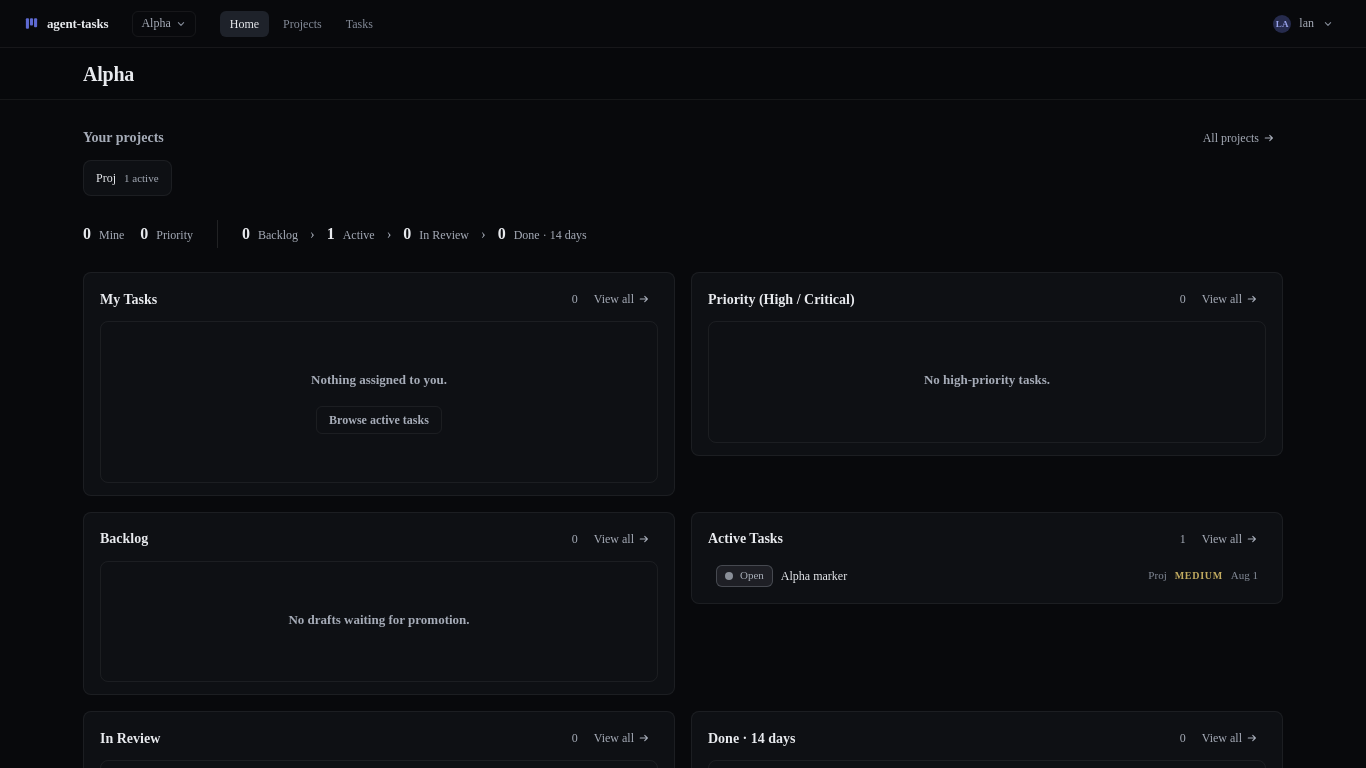
Test case: /home without ?teamId › after a later write of the remembered team (another tab), header and page agree and a pick of the other team switches both
What coordinates should you click on to do the following:
click the button with aria-label "Switch team"
I would click on:
 (164, 24)
Its box is [132, 10, 196, 36].
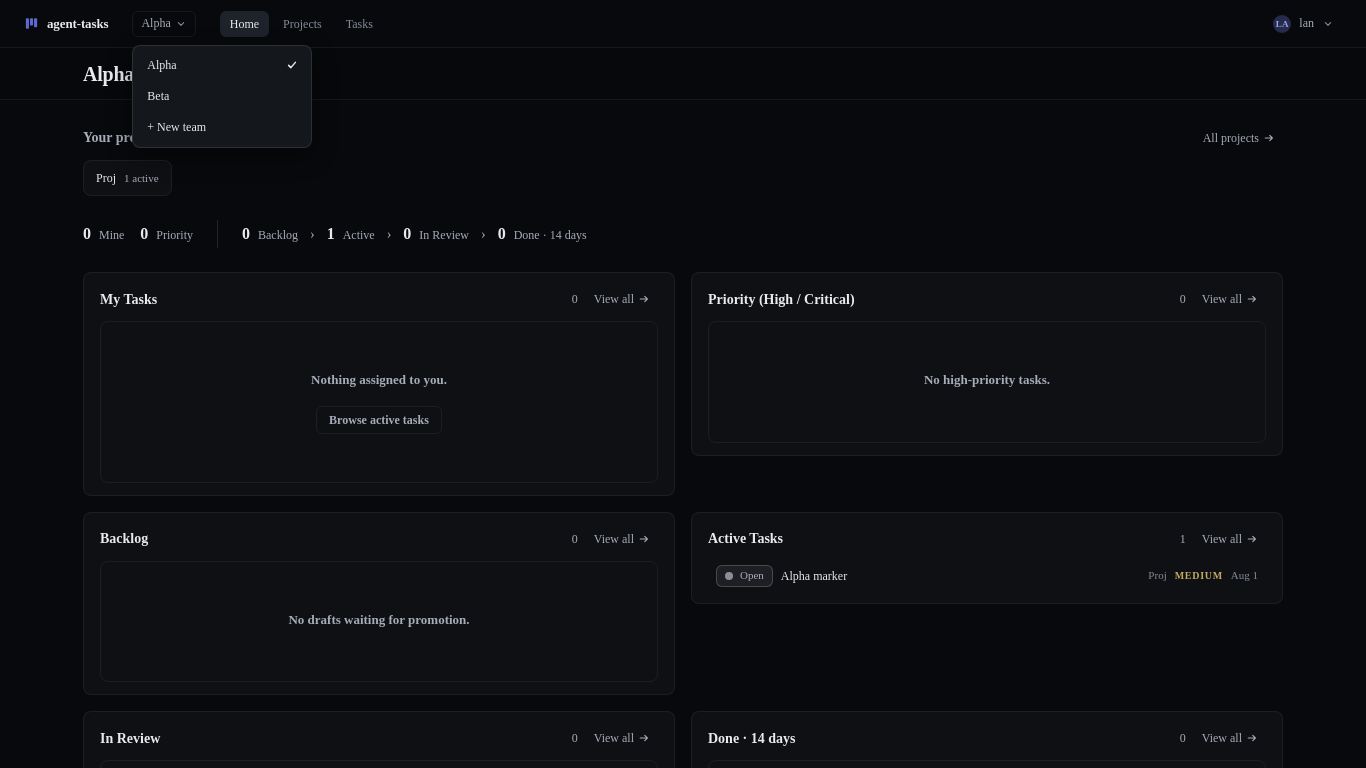
Expected: the text "Alpha" next to "agent-tasks" is shown, [141, 16, 171, 30]
// Picking Beta (the remembered team, not the URL's) is a real switch.
What coordinates should you click on to do the following:
click the menu item "Beta"
I would click on:
 (222, 96)
Its box is [137, 80, 307, 112].
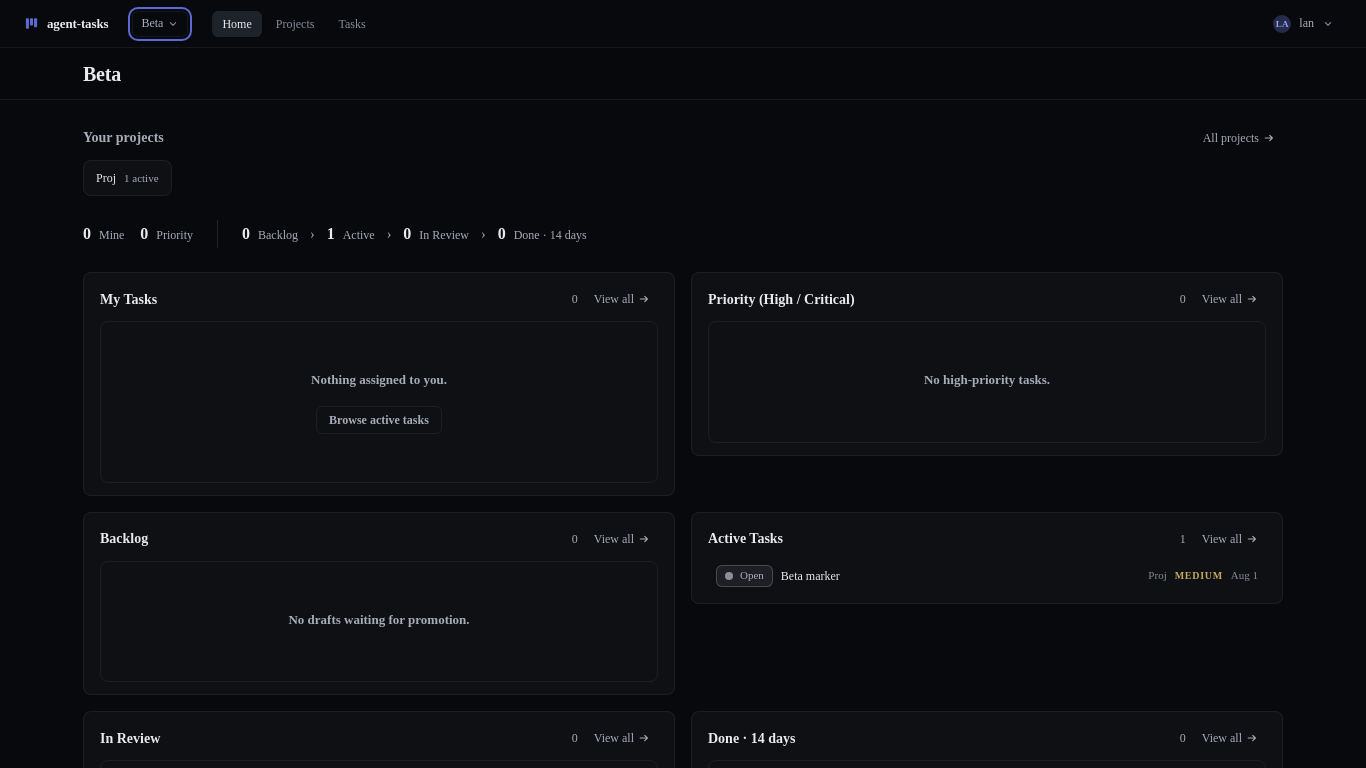
Expected: the text "Beta" is shown, [141, 16, 163, 31]
